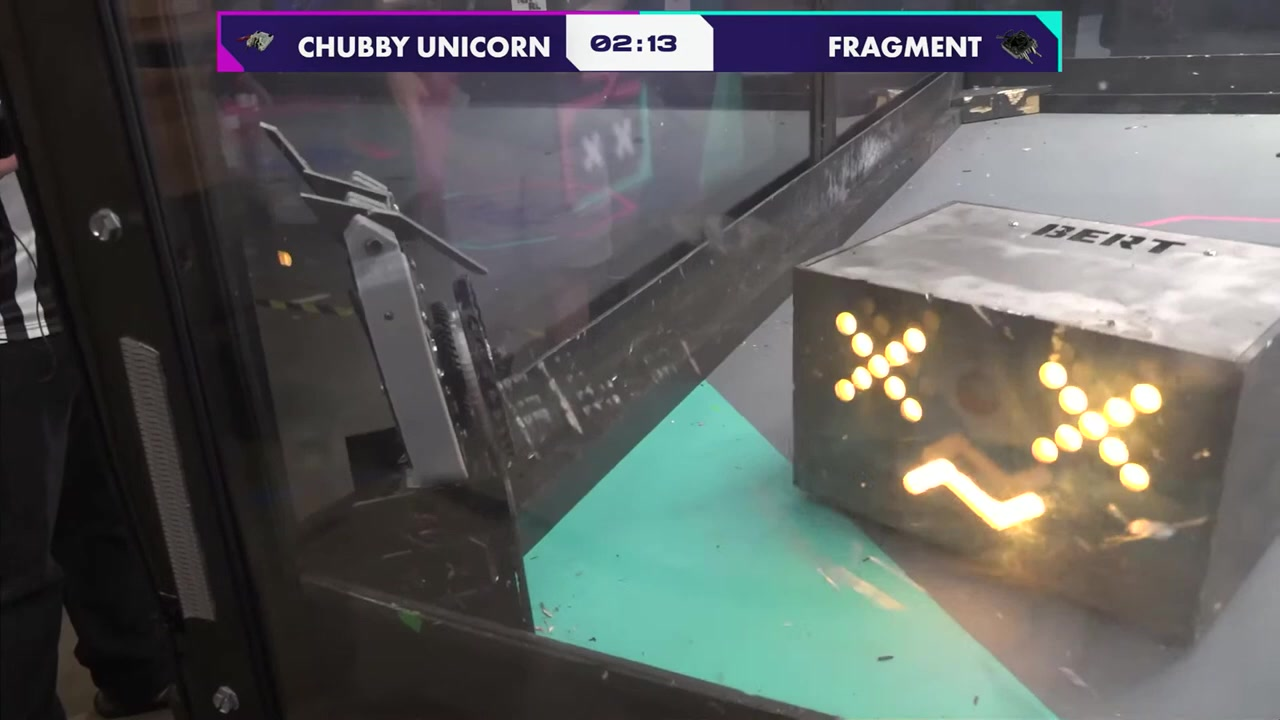combatbot: (257, 121, 523, 505)
housebot: (796, 200, 1279, 649)
